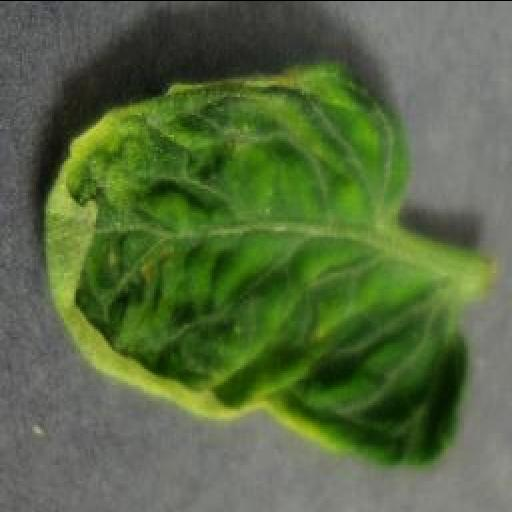disease_tomato: (42, 64, 470, 468)
